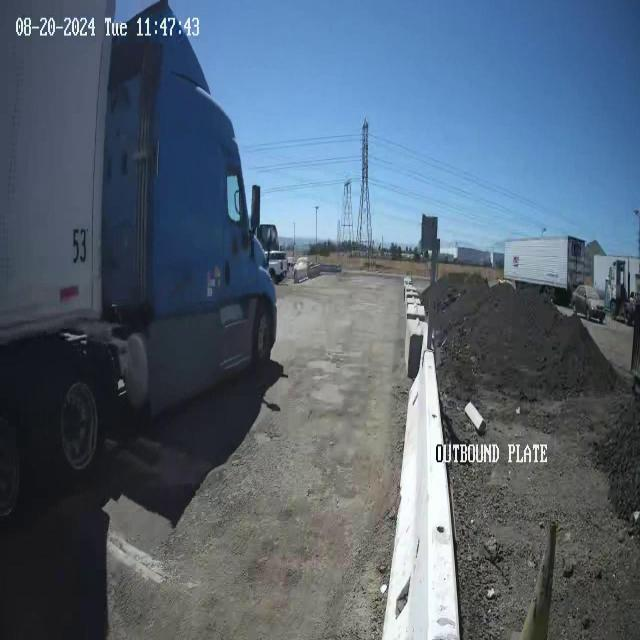CONTAINER: (0, 0, 119, 355)
